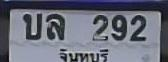2: (129, 14, 145, 40), (92, 14, 107, 40)
9: (111, 14, 126, 40)
A26: (22, 12, 43, 40)
A36: (45, 13, 65, 41)
CTI: (57, 46, 111, 62)
